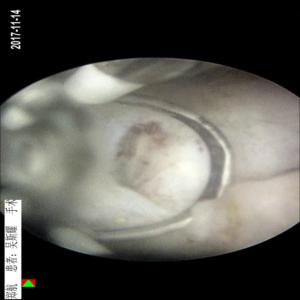film: (105, 109, 169, 189)
